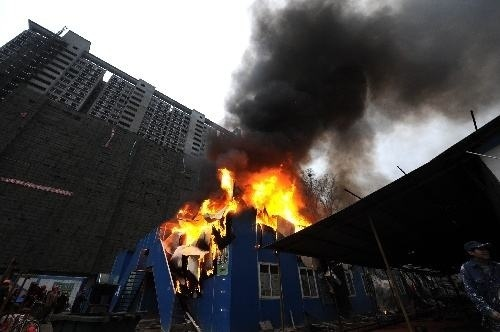fire: (157, 165, 307, 285), (242, 165, 309, 234)
